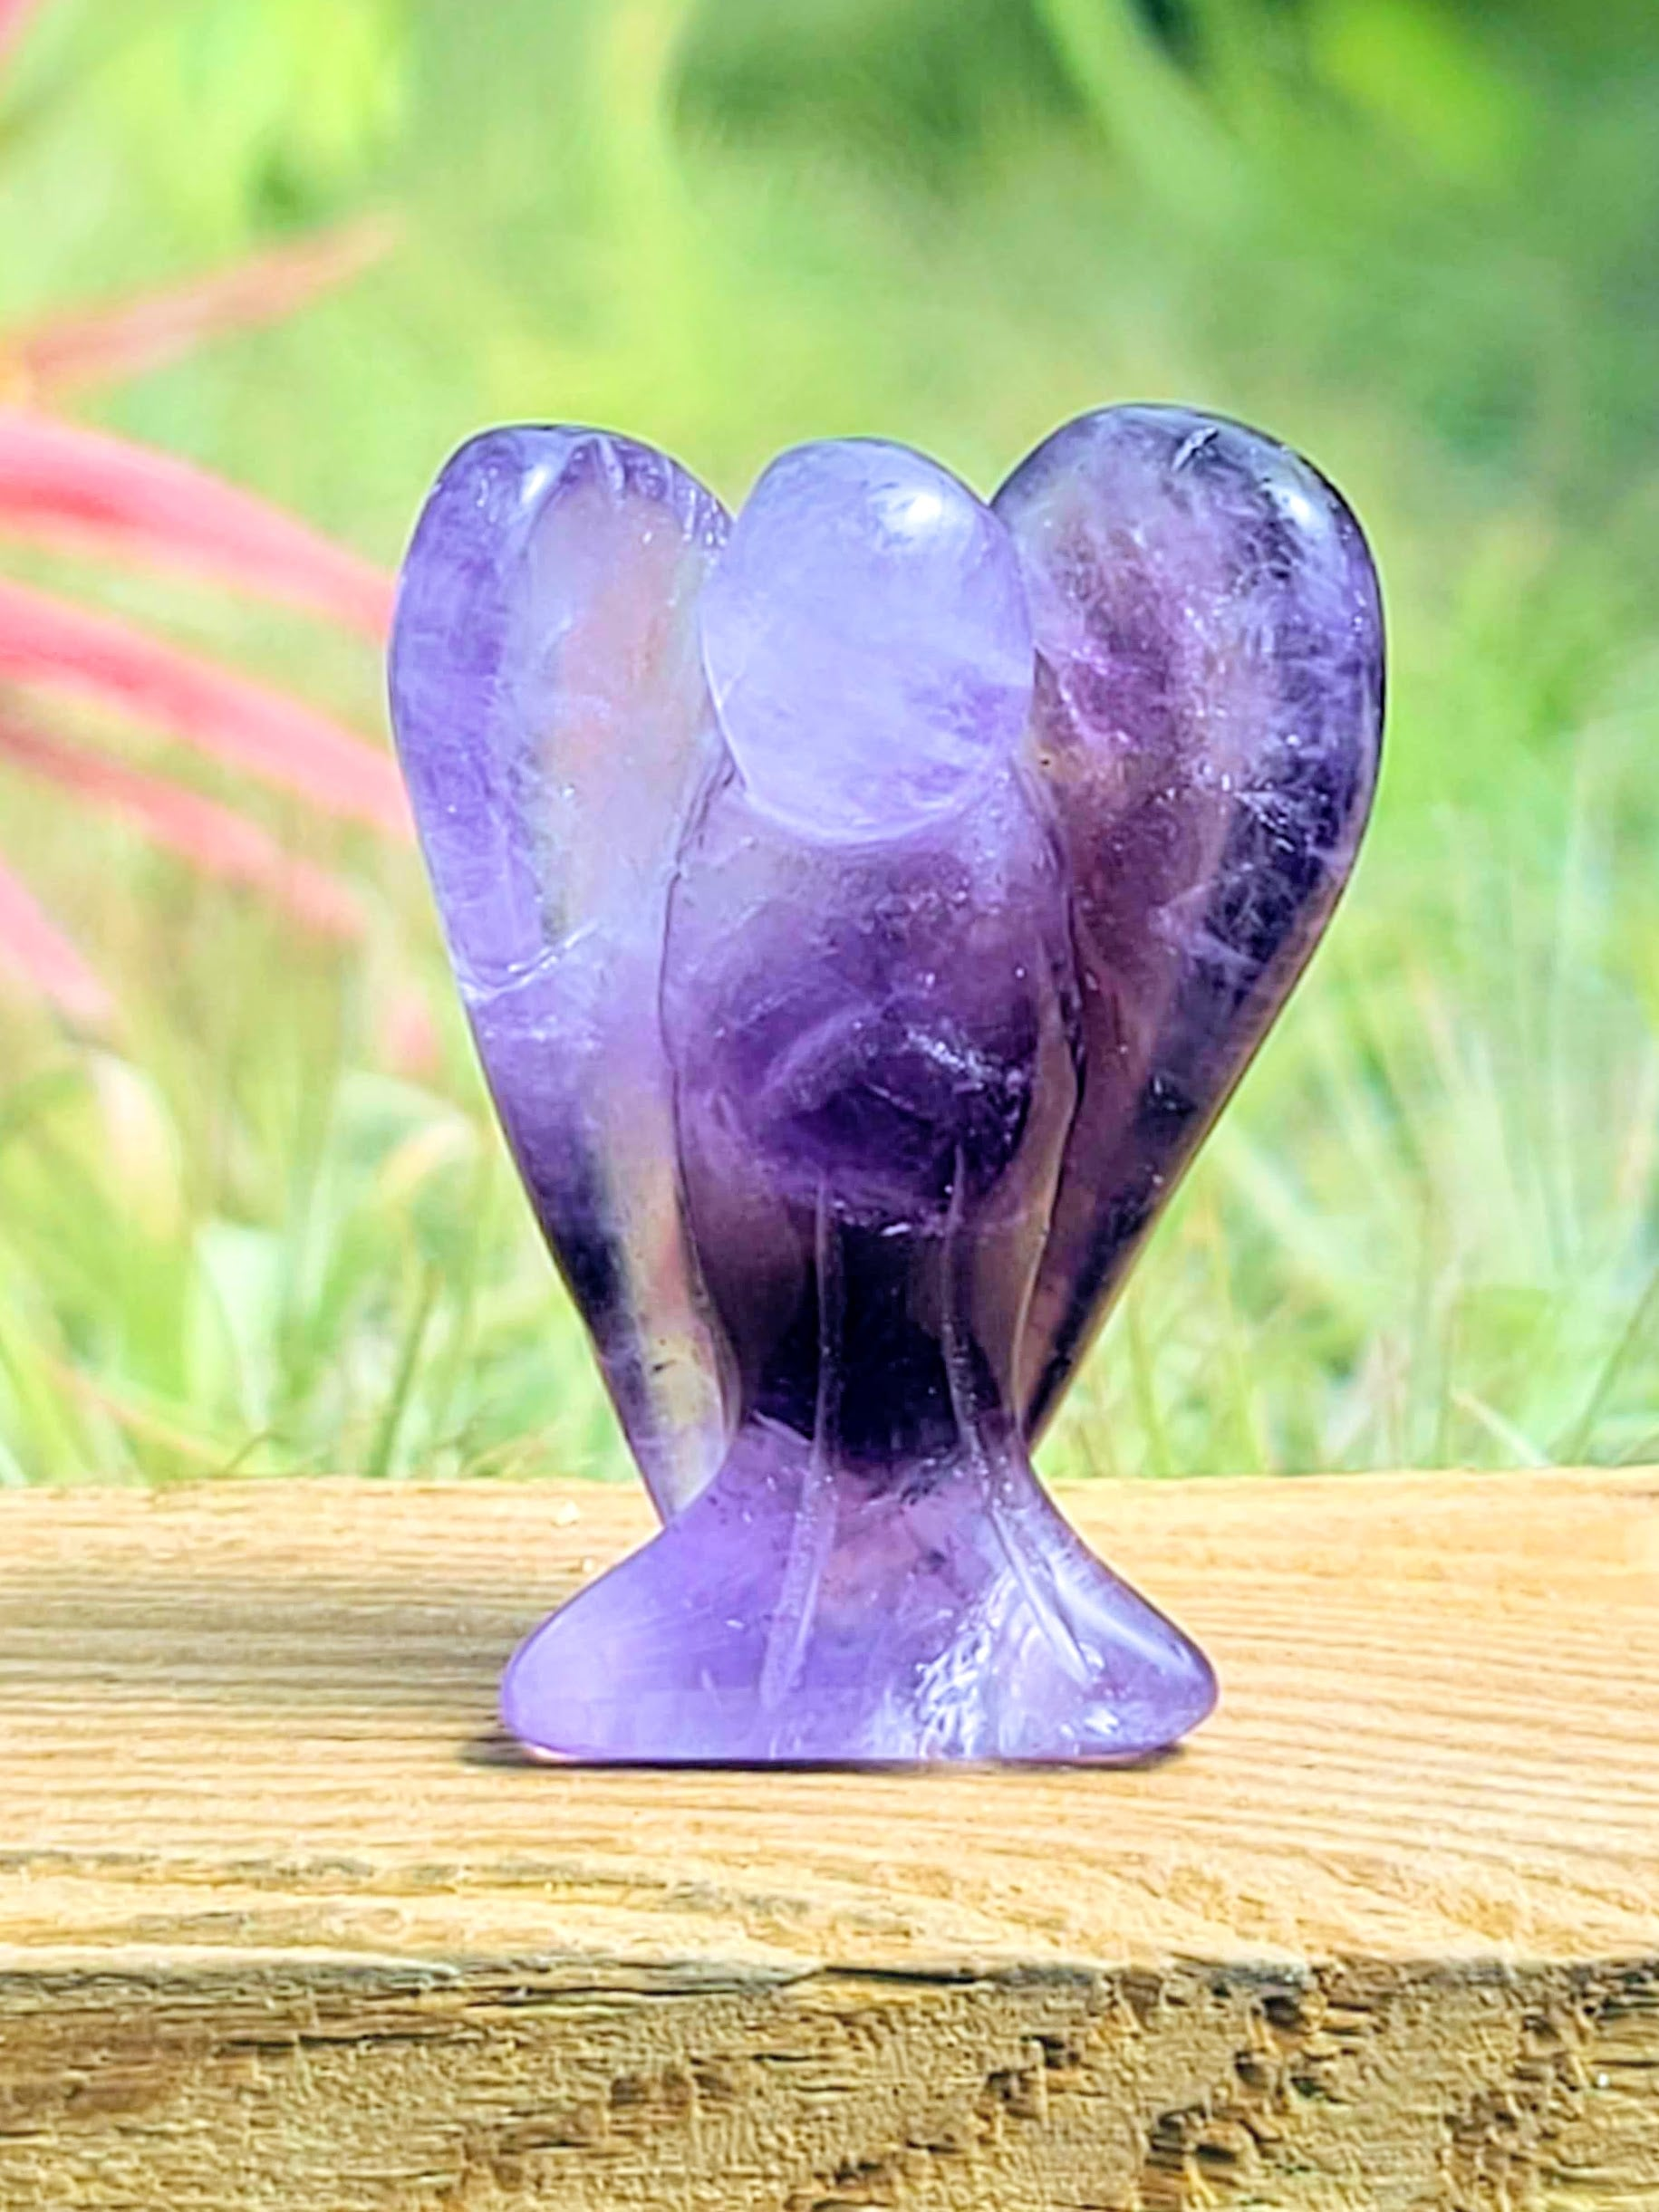Amethyst: (376, 395, 1394, 1773)
